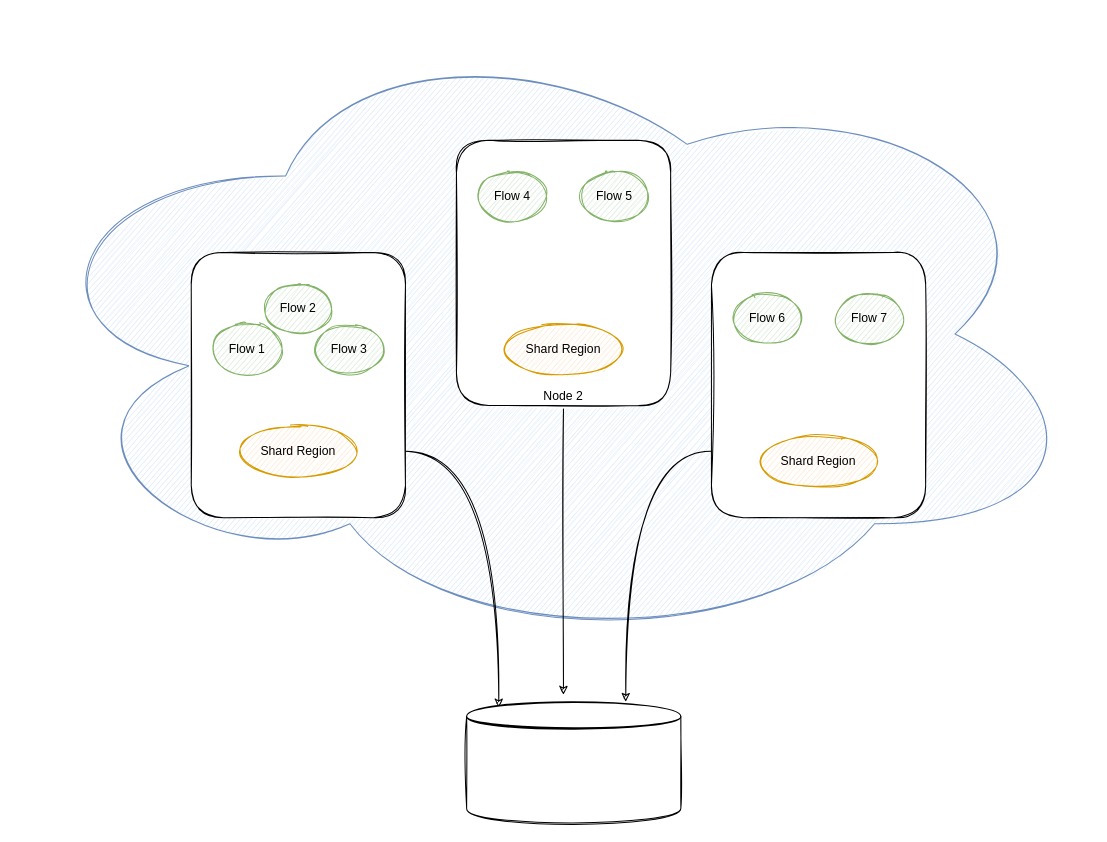
Some shapes in this 1107 by 842 pixel diagram are drawn without their labels. Here are the shapes that lost their labels. From the top down, the box of each, then its label:
(190, 251, 405, 518): Node 1
(710, 251, 926, 518): Node 3
(466, 700, 681, 824): Event Store
